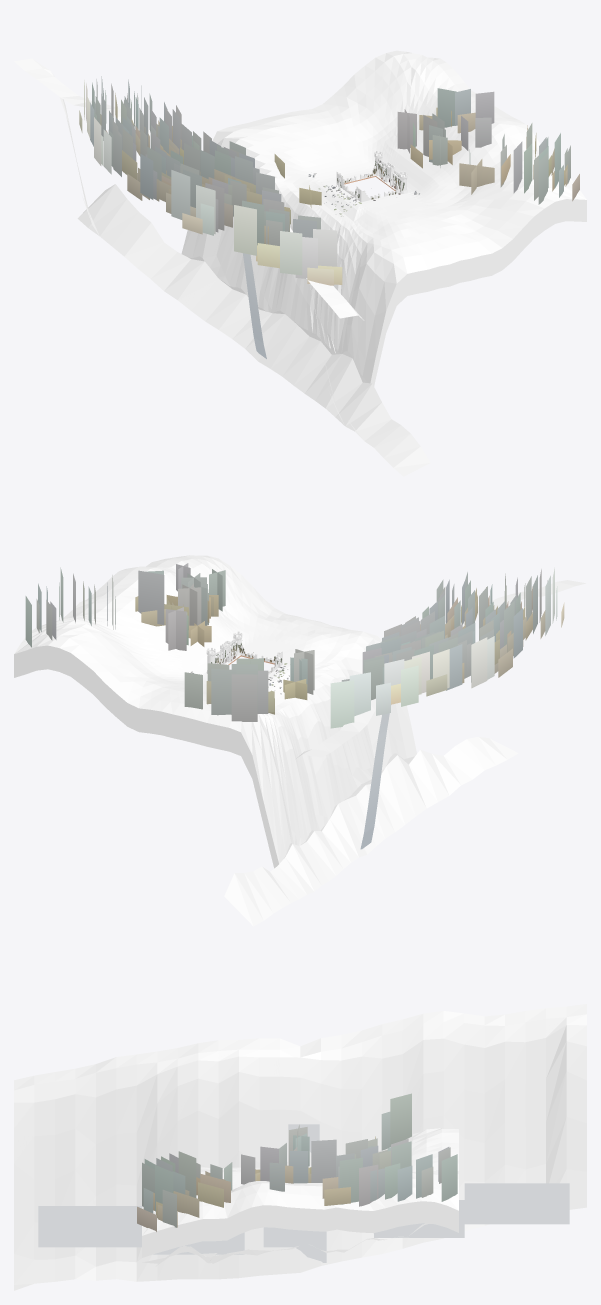
File: dungeon.glb
The picture shows the model from 3 angles, top to bottom: view 1: azimuth 30°, elevation 25°; view 2: azimuth 150°, elevation 25°; view 3: azimuth 270°, elevation 25°; orthographic projection. The views are drawn at different scales.
Parts seen in each view (by area): view 1: dungeon, ivy, air; view 2: dungeon, ivy, air; view 3: dungeon, ivy, air.
Boxes of the visible parts, <box> form: dungeon: <box>14,50,586,476</box>; ivy: <box>79,76,579,285</box>; air: <box>242,253,266,358</box>; dungeon: <box>14,555,585,926</box>; ivy: <box>25,563,564,728</box>; air: <box>360,713,389,849</box>; dungeon: <box>14,1004,586,1290</box>; ivy: <box>137,1093,457,1231</box>; air: <box>38,1124,569,1262</box>.
Bounding box in the file's own units: 127 × 85.62 × 164.
